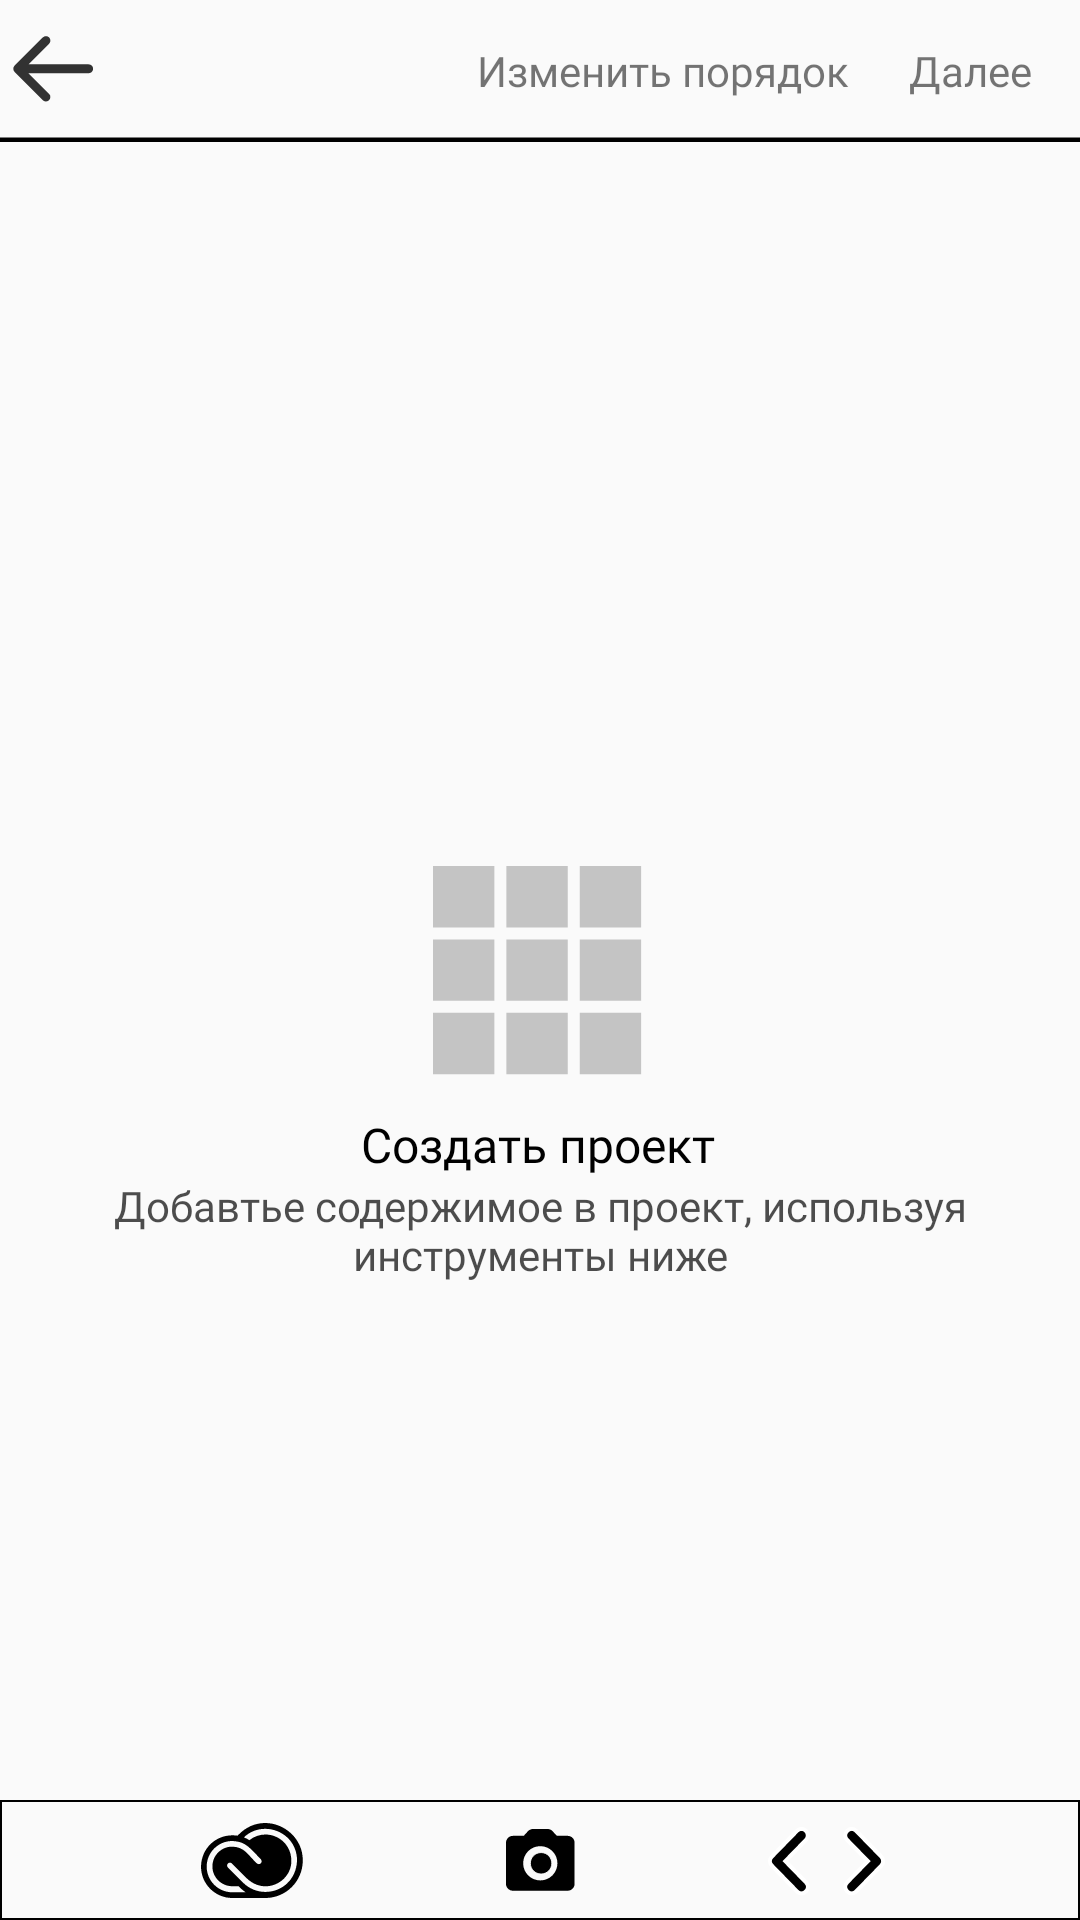

Locate icon controls on the screen. Image size 1080px×1920px, boxes as (x1, y1, x2, y2).
arrow: (13, 36, 93, 102)
